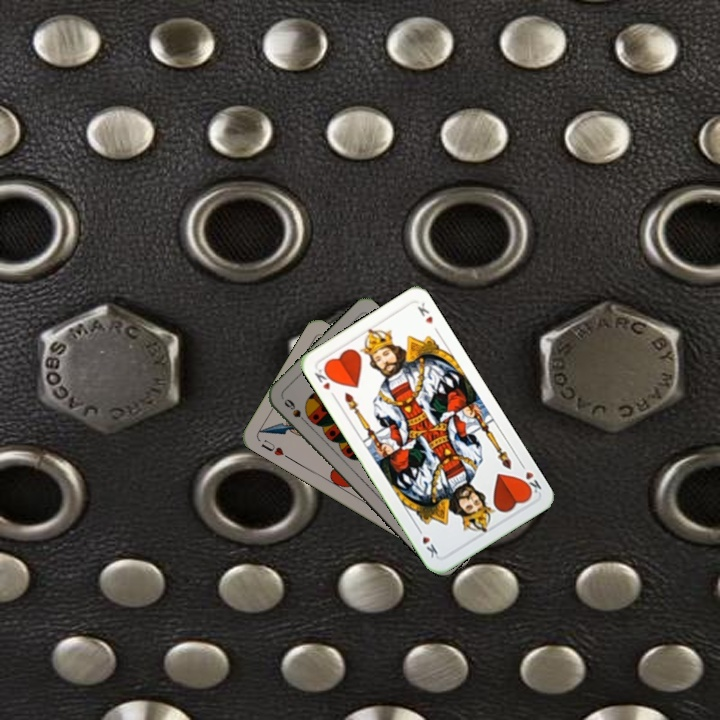HK: (516, 458, 544, 498), (310, 363, 338, 401)
HU: (257, 435, 292, 461)
S9: (280, 395, 311, 427)
